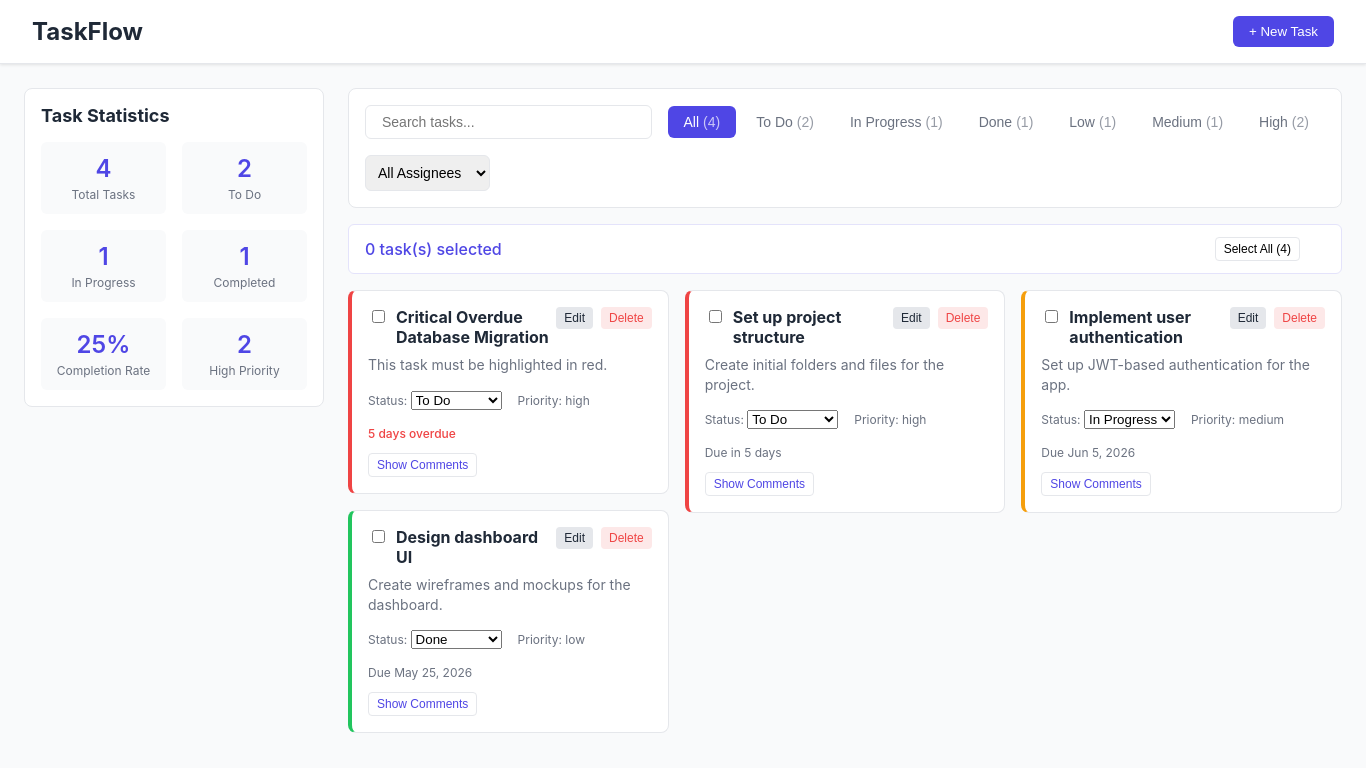
Test: TaskFlow Application › Due Dates (FEATURE) › should allow setting due date when creating task
This screenshot has width=1366, height=768.
Click the button with test id "create-task-button": (1284, 32) [1233,16,1334,47]
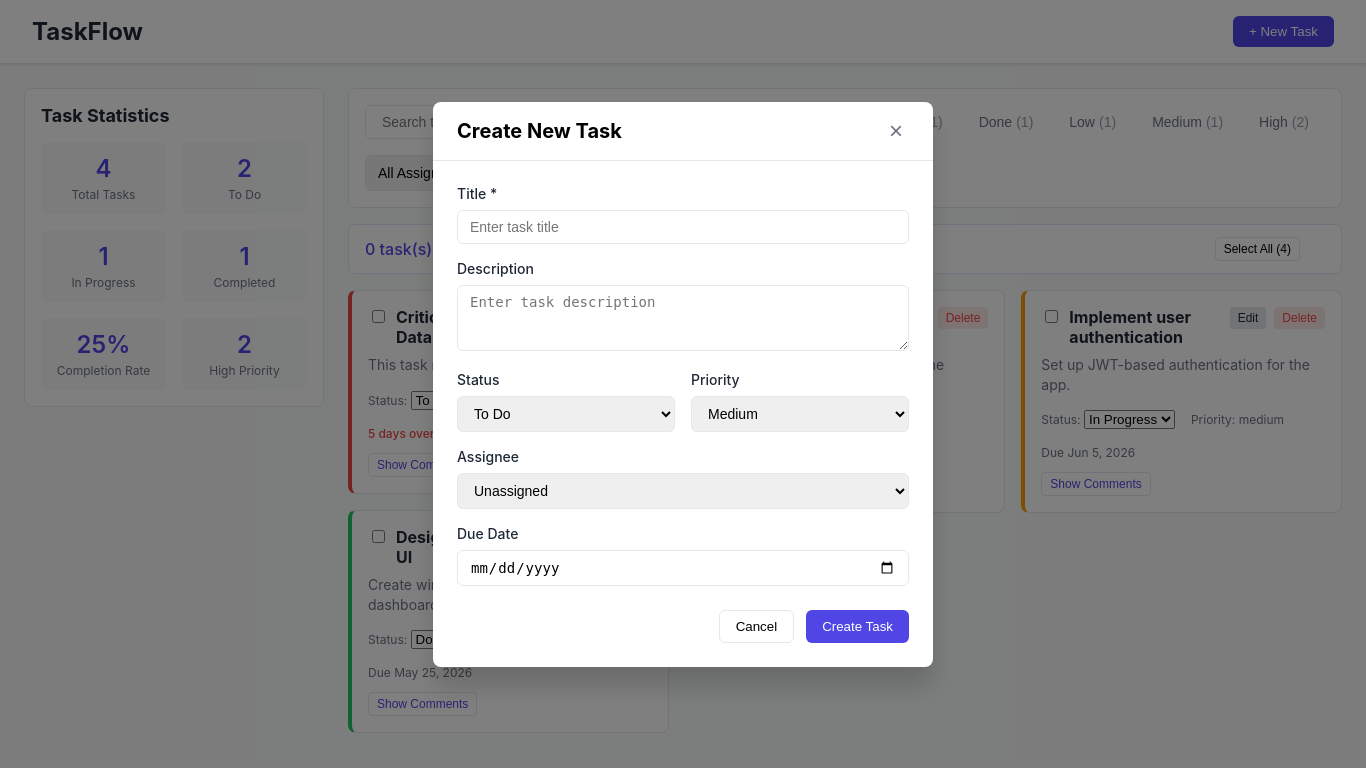
Result: the dialog with test id "task-form-modal" is shown
In the field with test id "form-title-input": (683, 227) [457,210,909,244], type "Task with due date"
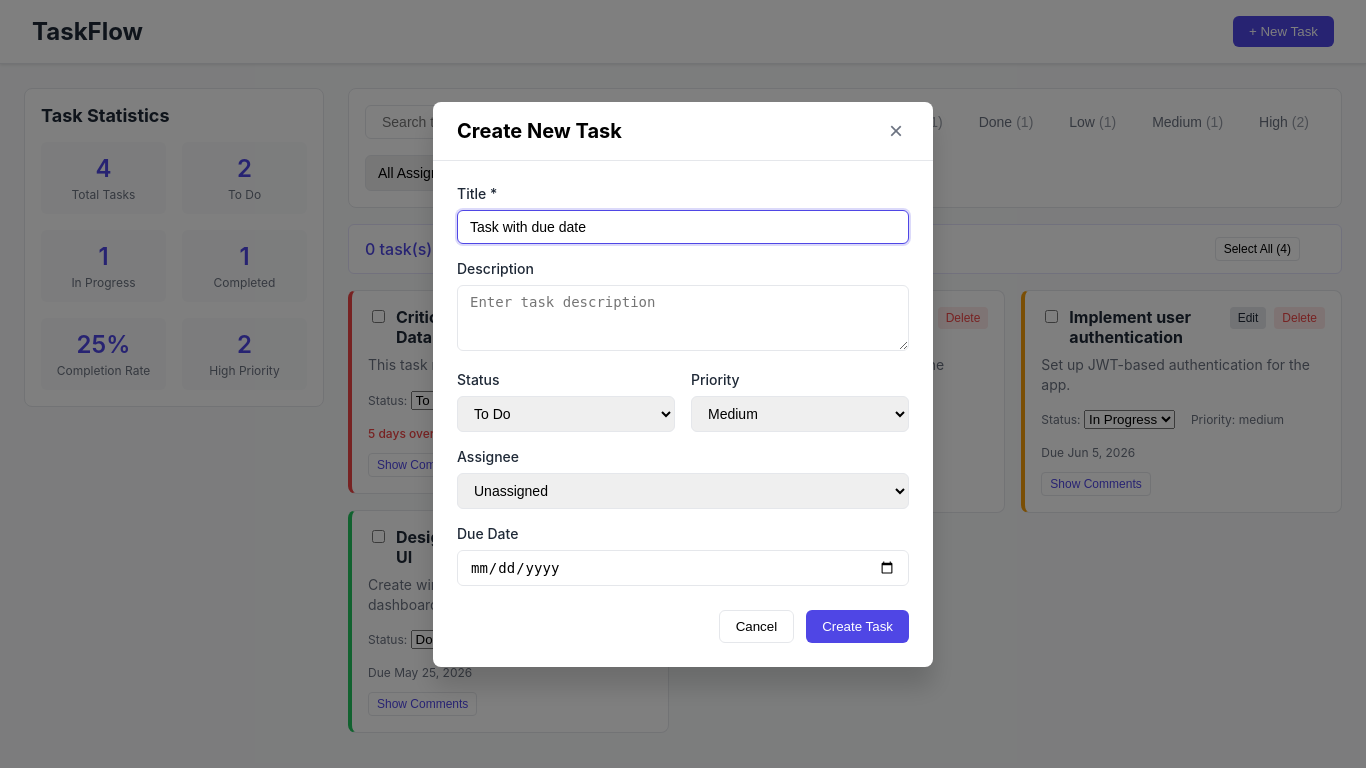
In the date field with test id "form-due-date-input": (683, 568) [457,550,909,586], type "2026-06-15"
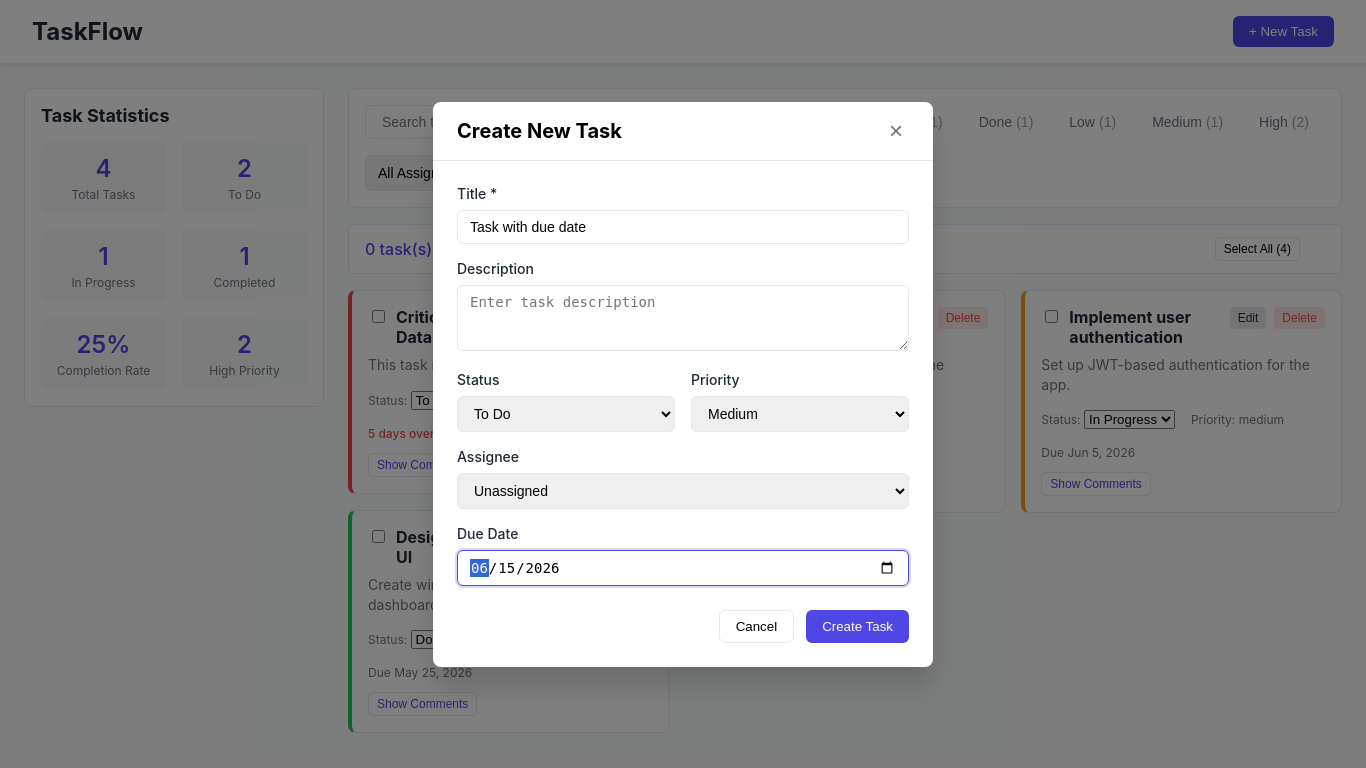
Click the button with test id "form-submit-button": (858, 627) [806,610,909,643]
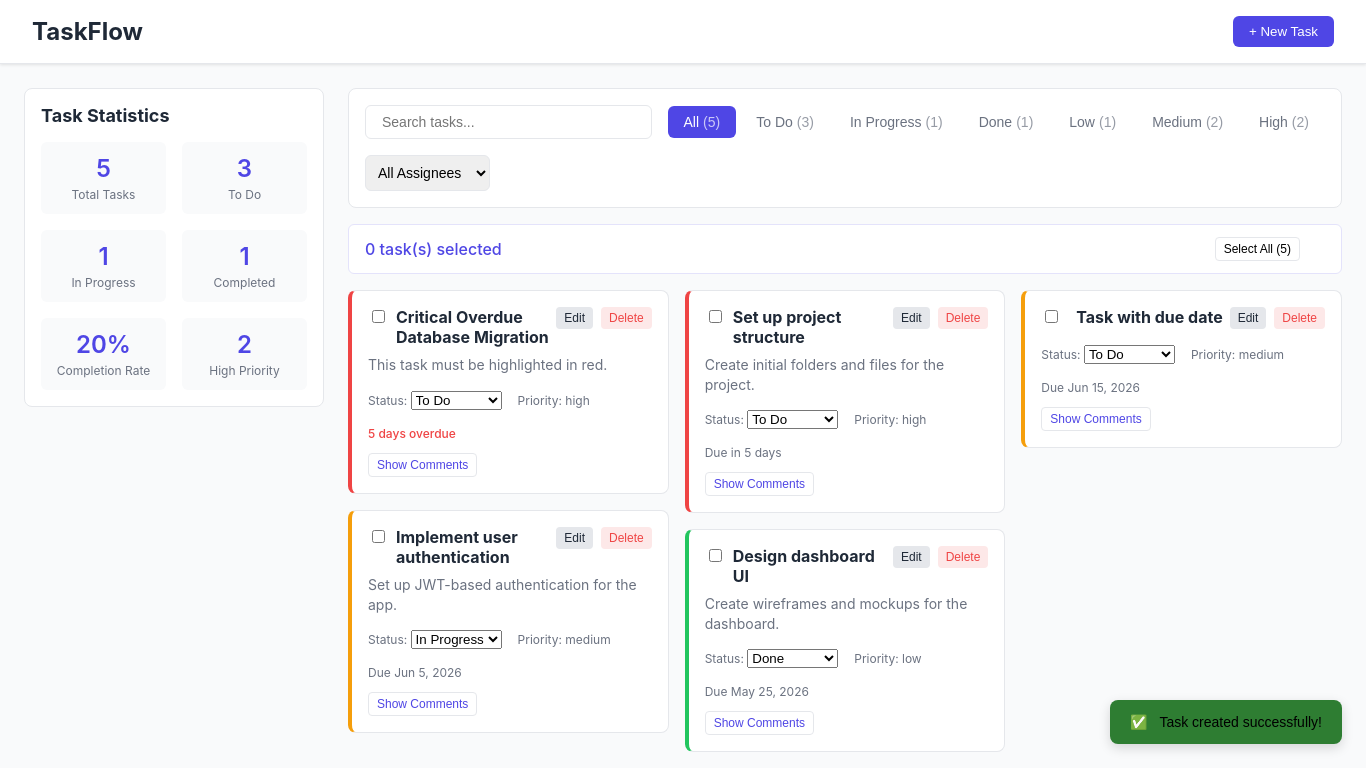
Result: the dialog with test id "task-form-modal" is gone
